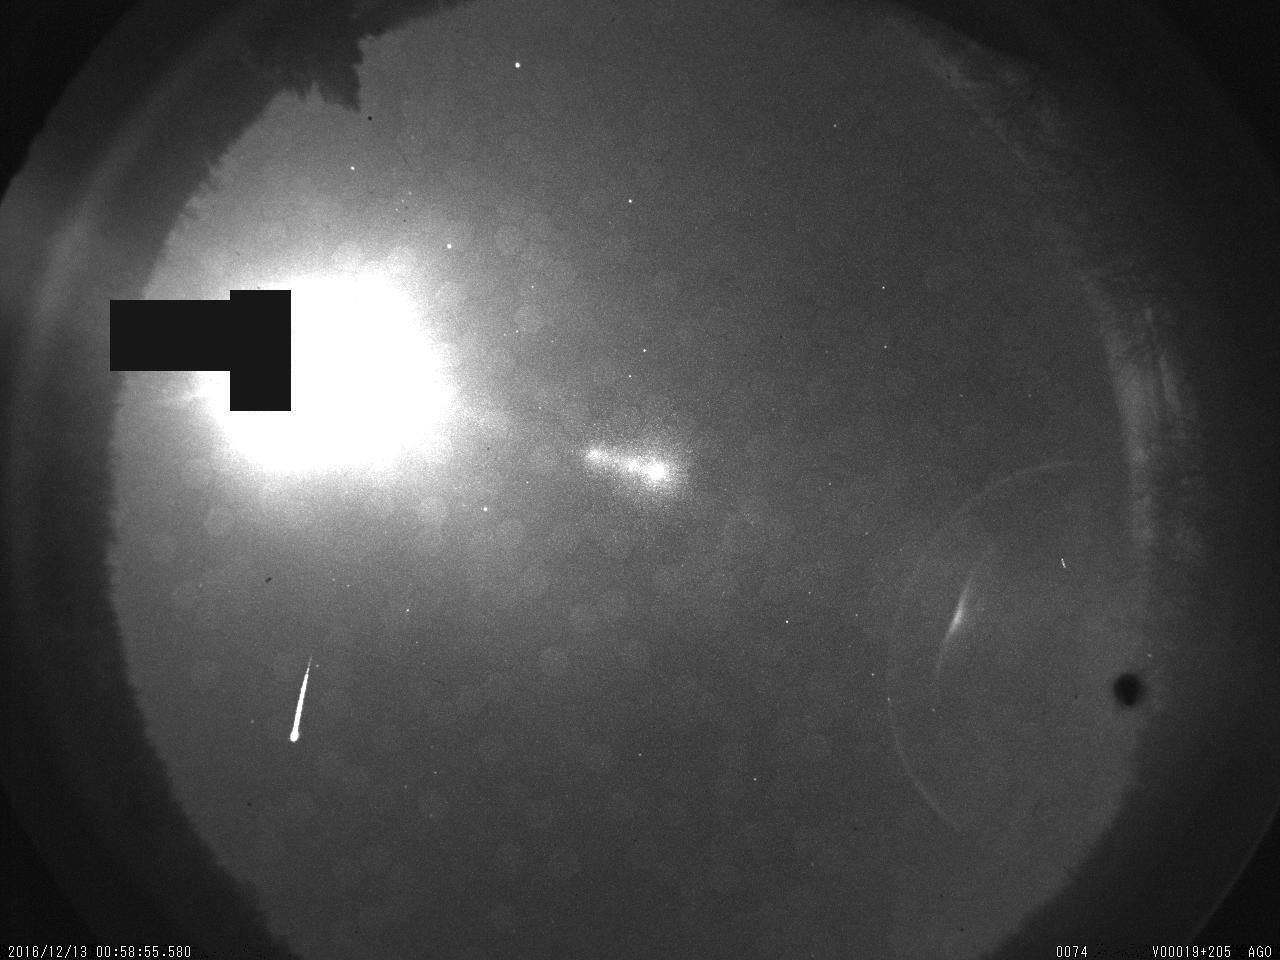Meteor: (285, 647, 318, 743)
